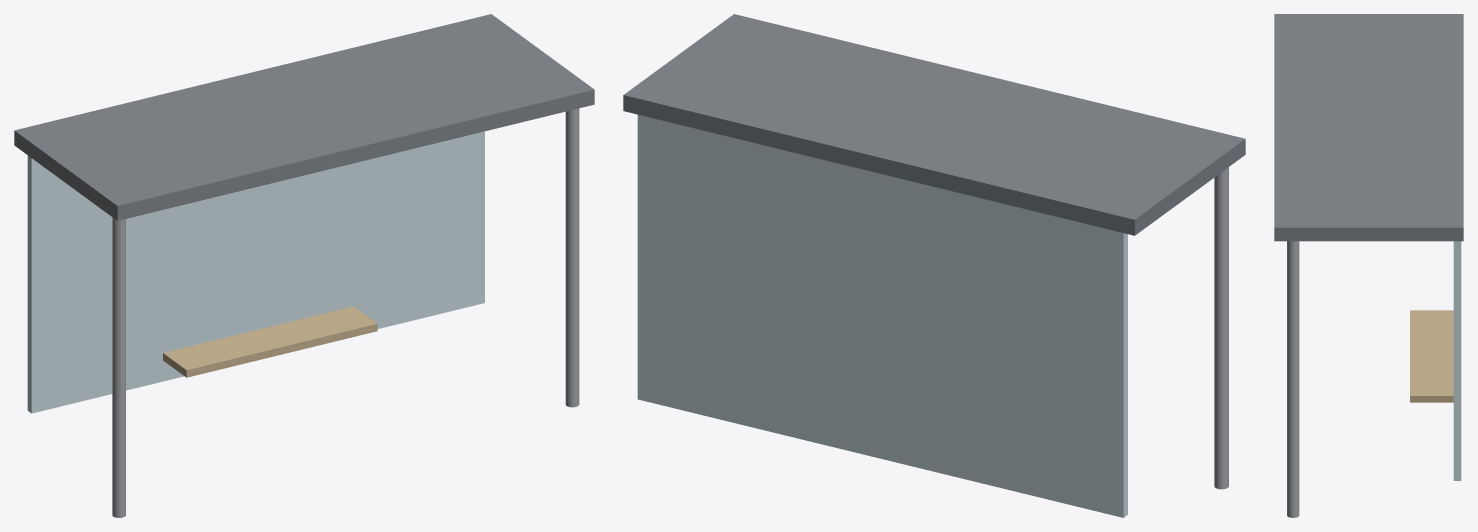
File: BusShelter.glb
3 views of the same model, side by side, from view 1: azimuth 30°, elevation 25°; view 2: azimuth 150°, elevation 25°; view 3: azimuth 270°, elevation 25° (orthographic). The views are drawn at different scales.
Parts seen in each view (by area): view 1: model; view 2: model; view 3: model.
Boxes of the visible parts, x1=… form: model: x1=14, y1=14, x2=594, y2=517; model: x1=623, y1=14, x2=1245, y2=517; model: x1=1274, y1=14, x2=1463, y2=517.
Size of the model in its own units: 4 by 2.56 by 1.5.
